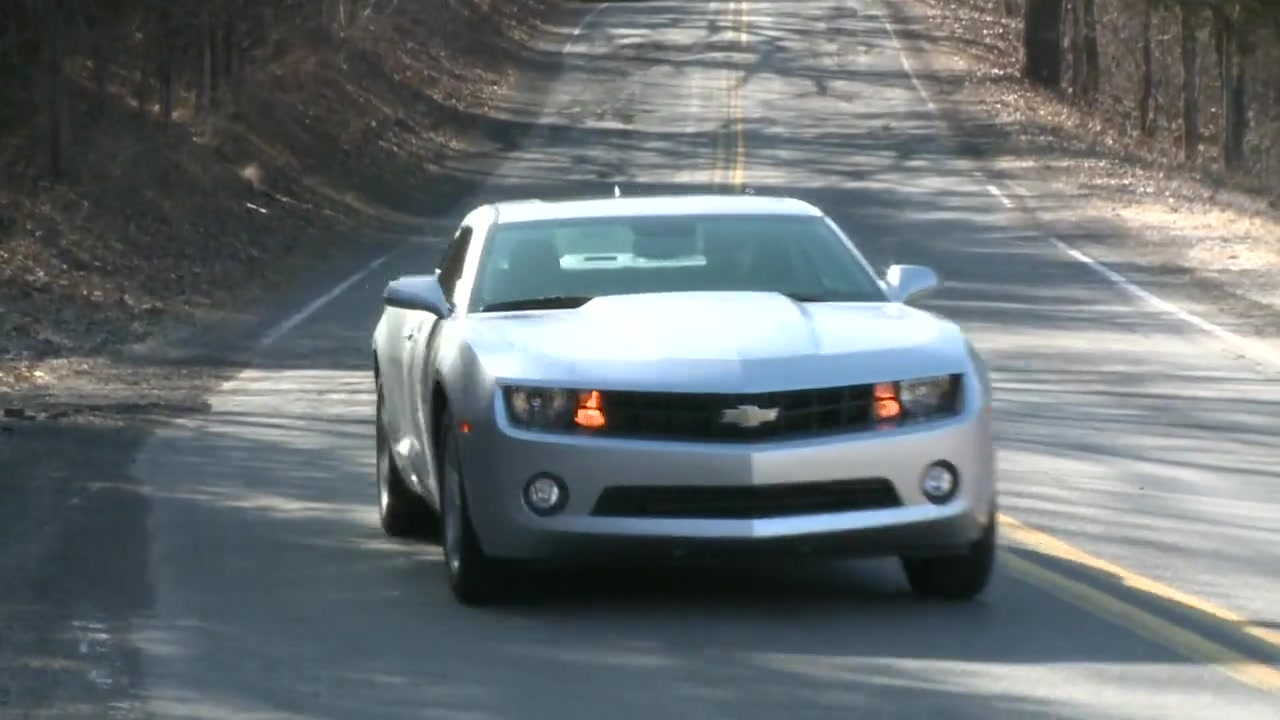car: (364, 199, 1003, 603)
